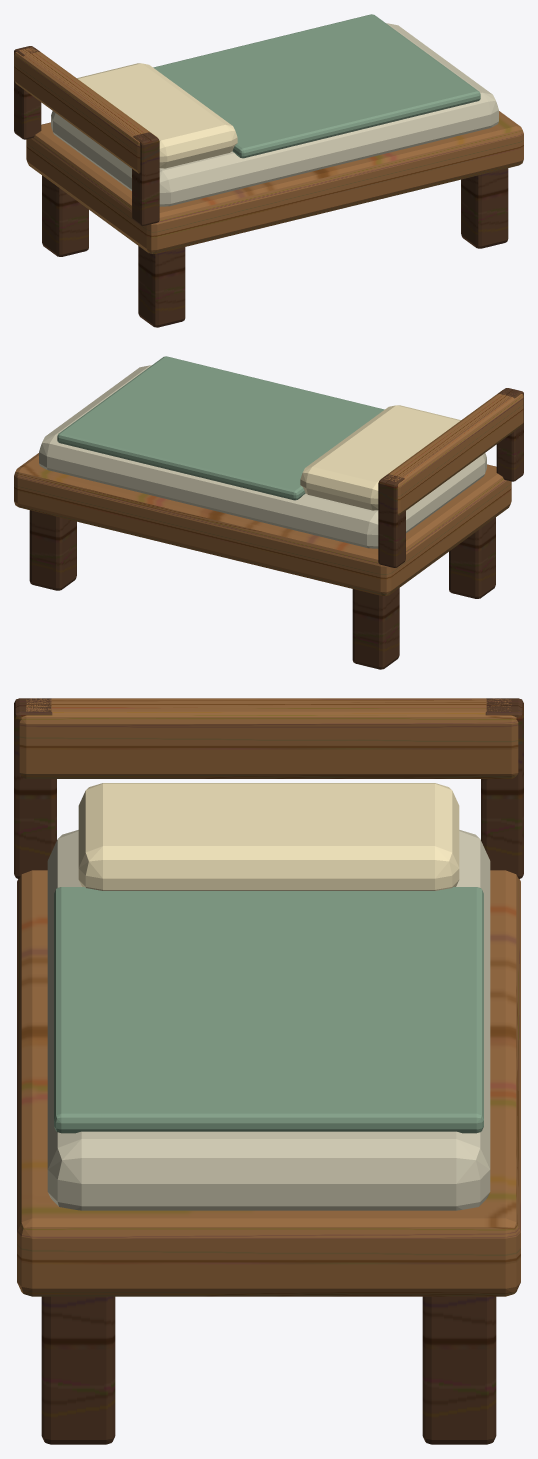
The model's file is SM_HH_V3_TreatmentBedSmall.fbx.
3 renders of one model, top to bottom at view 1: azimuth 30°, elevation 25°; view 2: azimuth 150°, elevation 25°; view 3: azimuth 270°, elevation 25°, orthographic. The views are drawn at different scales.
Parts seen in each view (by area): view 1: HH_V3_TreatmentBedSmall; view 2: HH_V3_TreatmentBedSmall; view 3: HH_V3_TreatmentBedSmall.
Boxes of the visible parts, x1,y1,x2,y2 form: HH_V3_TreatmentBedSmall: (14,14,523,327); HH_V3_TreatmentBedSmall: (14,356,523,669); HH_V3_TreatmentBedSmall: (14,698,523,1444).
Bounding box in the file's own units: 0.83 × 1.44 × 0.7.
